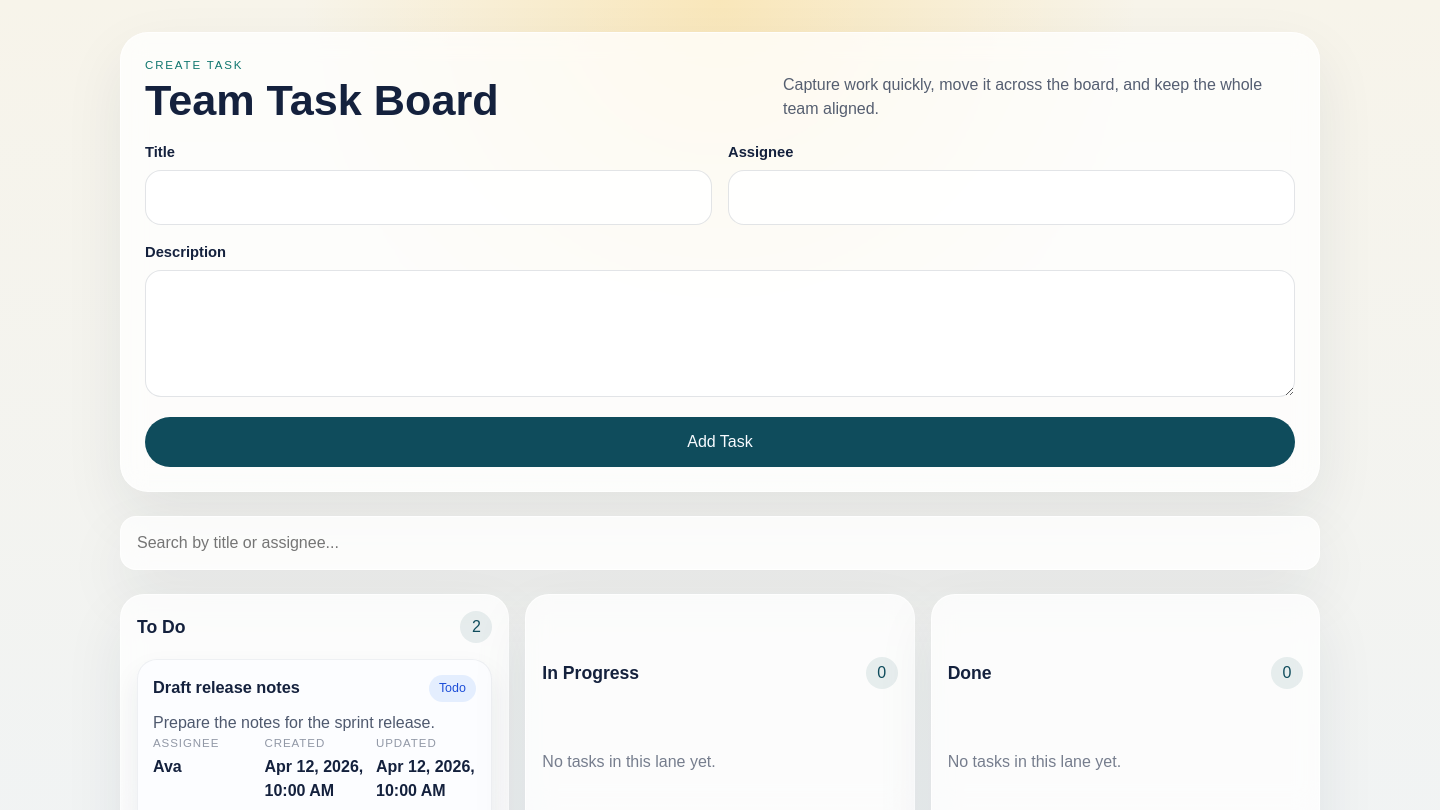
Test case: App › filters tasks by title in real time
Type "demo" into the search field named "Search tasks" at (720, 543), box [120,516,1320,570]
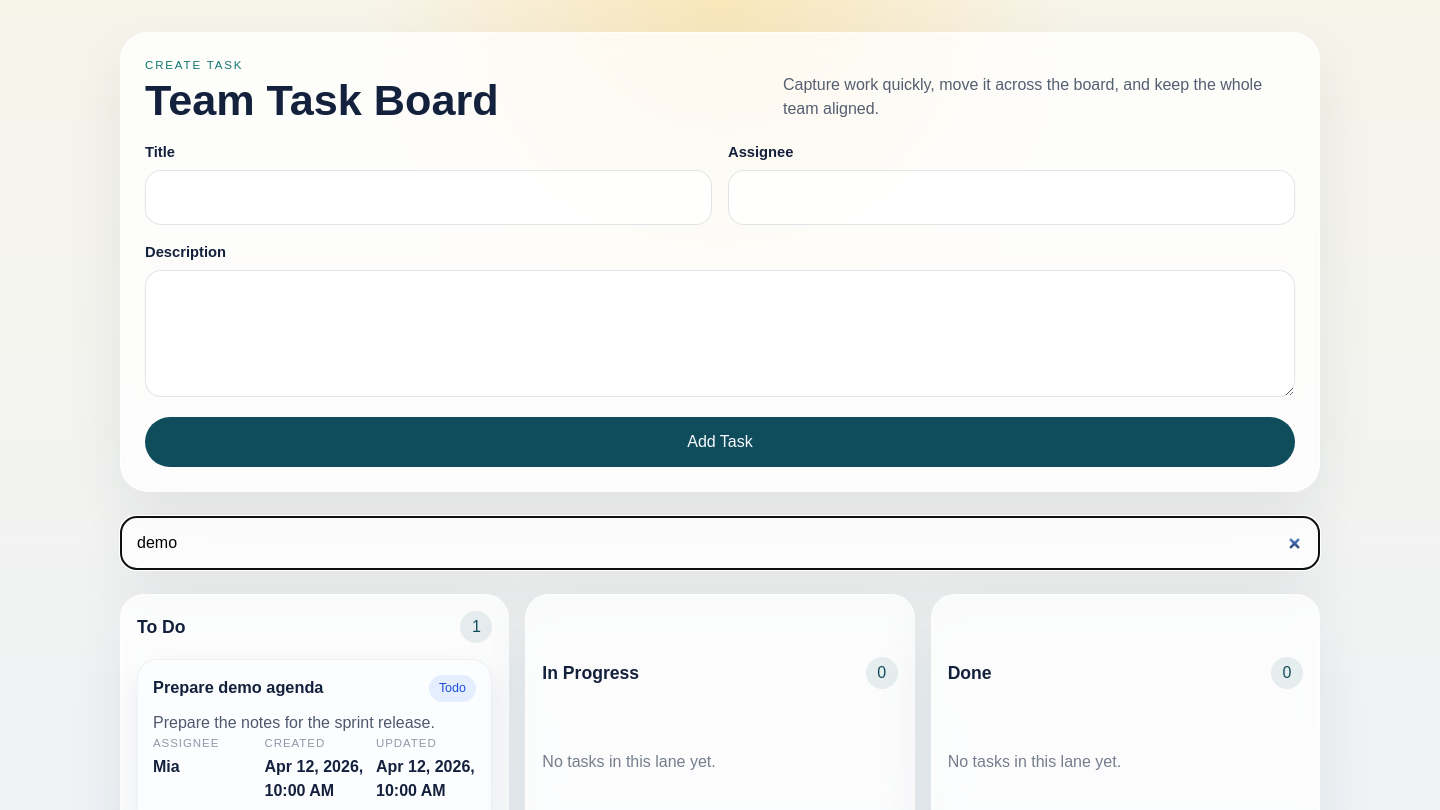
Check: the heading "Prepare demo agenda" is shown, box [153,675,323,700]
Check: the heading "Draft release notes" is gone
